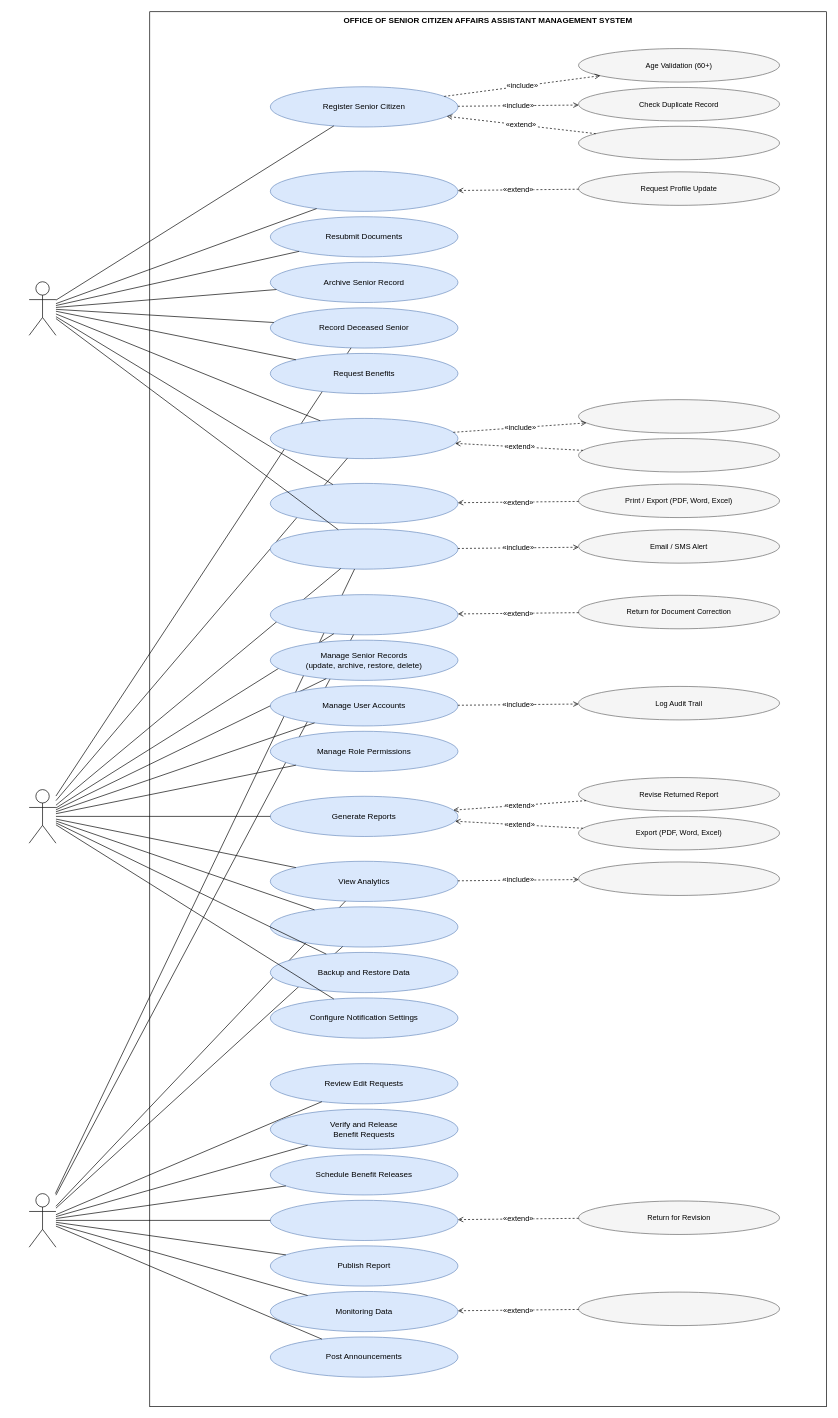
This 838x1418 diagram has some shape labels left out. The shapes that lost their labels are listed below. From the top down, each one's centre as x and y in pixels, then its label:
At [679,143]: "Bulk Import (CSV/Excel)".
At [364,191]: "View Barangay Records".
At [42,308]: "Barangay Leader".
At [679,416]: "Upload Release Proof".
At [364,438]: "Record Release Status".
At [679,455]: "Print Payroll".
At [364,503]: "View Published Reports".
At [364,548]: "Notifications".
At [364,614]: "Verify Eligibility".
At [42,816]: "OSCA Admin".
At [679,878]: "Age Threshold Detection".
At [364,926]: "Complete Release Batch".
At [42,1220]: "OSCA Head".
At [364,1220]: "Review and Approve Reports".
At [679,1308]: "Flag Inactive Senior Citizen".
